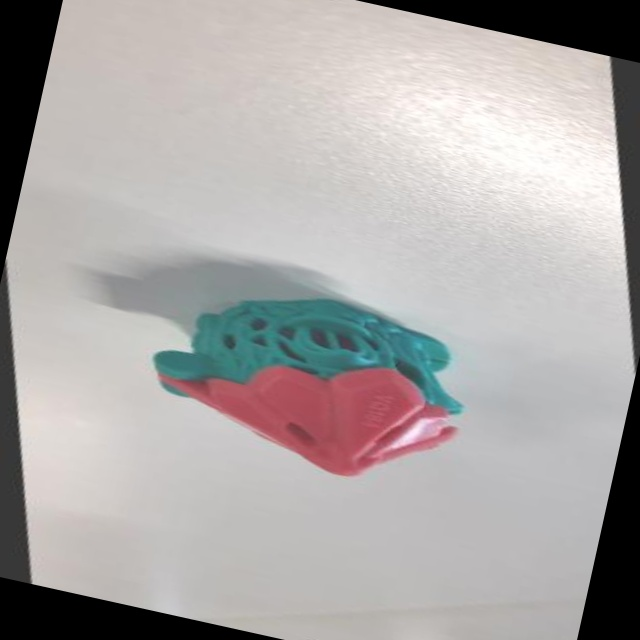House: (94, 237, 533, 531)
